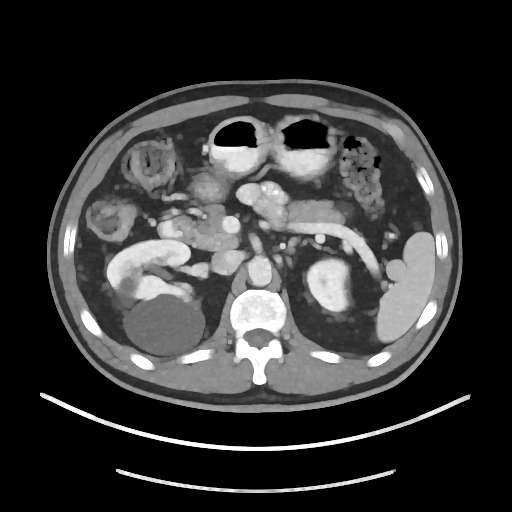Lesion: (119, 287, 206, 361)
